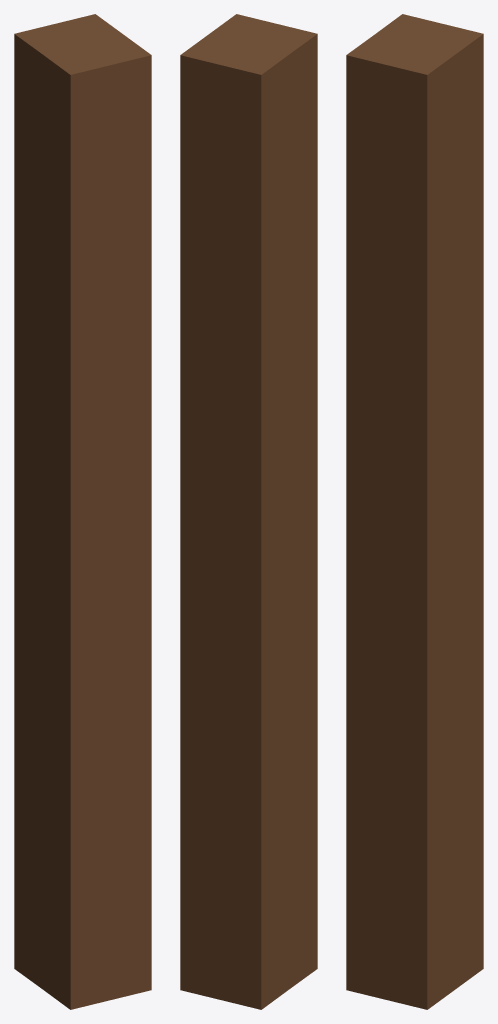
File: fencepost.glb
3 renders of one model, left to right at view 1: azimuth 30°, elevation 25°; view 2: azimuth 150°, elevation 25°; view 3: azimuth 330°, elevation 25°, orthographic.
Visible parts, largest first — view 1: Cylinder - colonly; view 2: Cylinder - colonly; view 3: Cylinder - colonly.
Boxes of the visible parts, x1,y1,x2,y2 form: Cylinder - colonly: [14, 14, 151, 1009]; Cylinder - colonly: [180, 14, 317, 1009]; Cylinder - colonly: [346, 14, 483, 1009].
Bounding box in the file's own units: 0.15 × 1.65 × 0.18.
